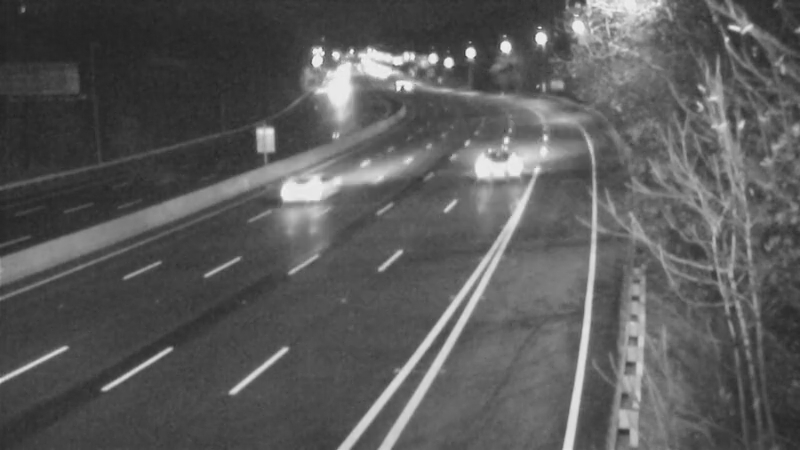vehicle: (466, 129, 546, 209), (274, 144, 354, 224), (374, 65, 424, 115), (310, 68, 360, 118)
